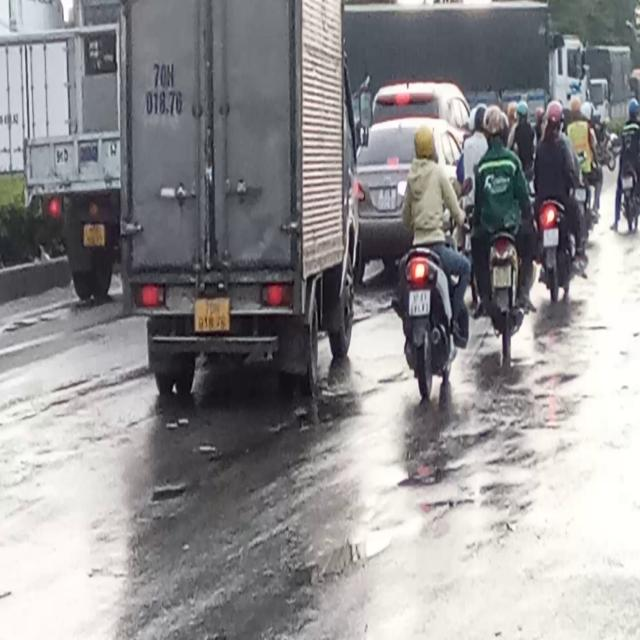bien_vang: (194, 297, 231, 334), (80, 223, 107, 251)
